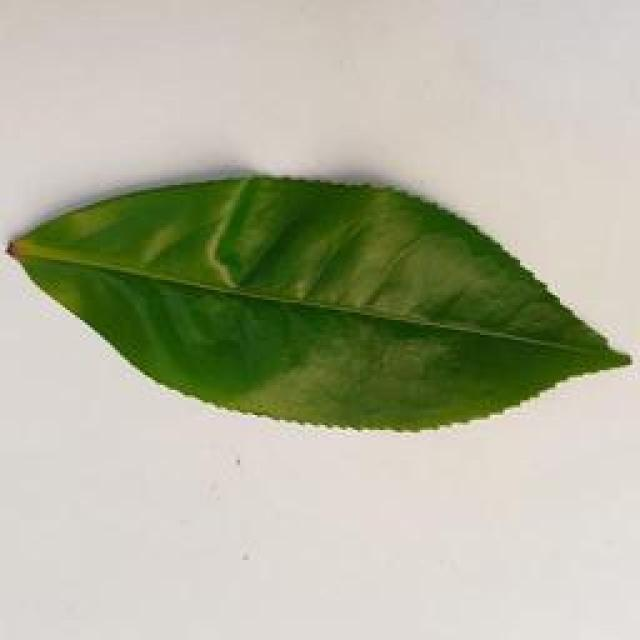Healthy: (18, 178, 628, 432)
